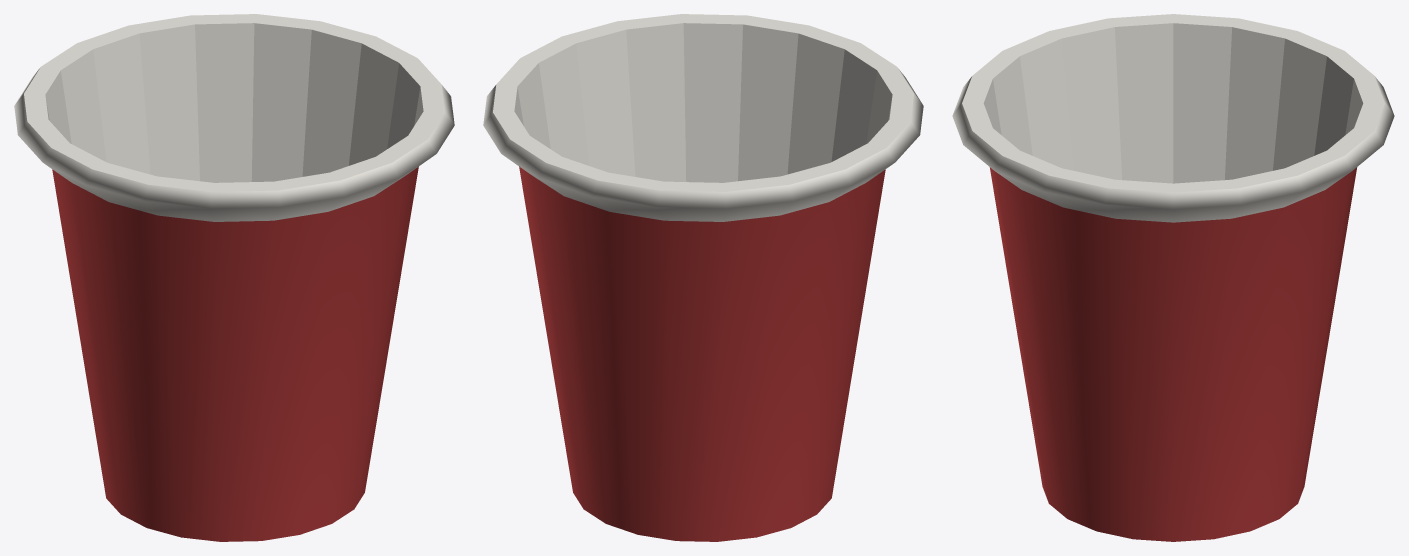
File: CUP.fbx
3 renders of one model, left to right at view 1: azimuth 30°, elevation 25°; view 2: azimuth 150°, elevation 25°; view 3: azimuth 270°, elevation 25°, orthographic.
Parts seen in each view (by area): view 1: pCylinder1; view 2: pCylinder1; view 3: pCylinder1.
Boxes of the visible parts, bbox=[...] form: pCylinder1: bbox=[14, 14, 454, 541]; pCylinder1: bbox=[483, 14, 923, 541]; pCylinder1: bbox=[952, 14, 1394, 541].
Bounding box in the file's own units: 2.09 × 2 × 2.09.
